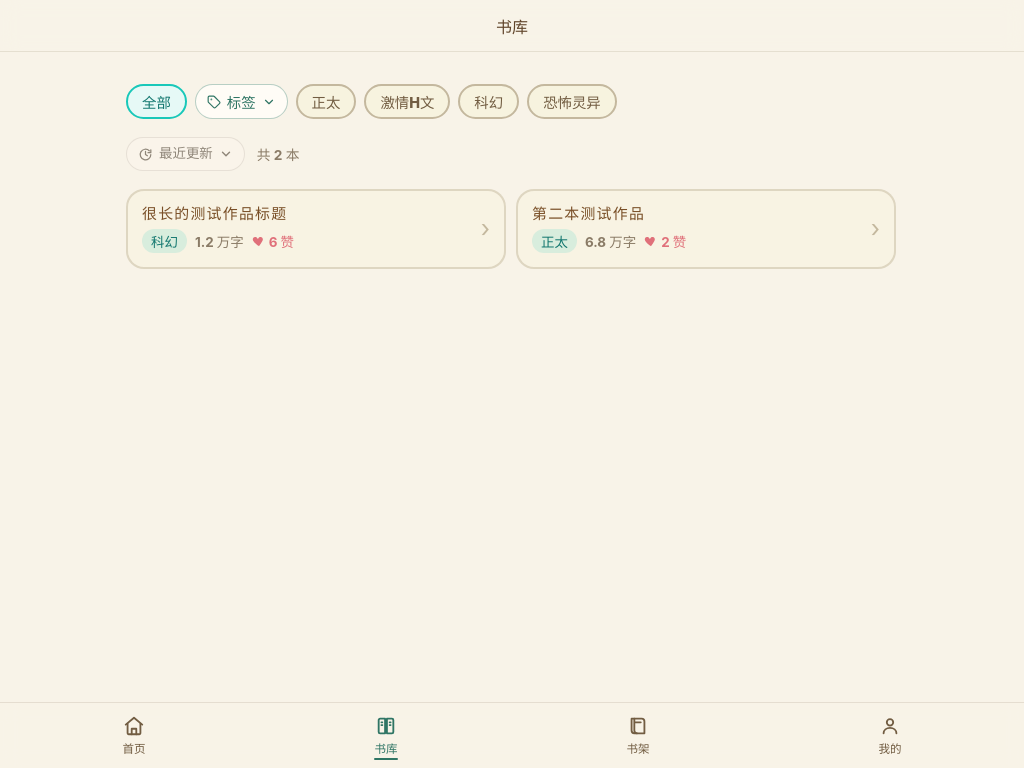
Test: BooksPage categories › shows a recent update sort control on the right side of the status row and opens other choices
Expected: the text "共 2 本" is shown, [257,147,300,163]
Expected: the icon with class "books-sort__icon" is shown, [138,146,153,162]
Click the button with aria-label "排序：最近更新" at [185, 154], box [126,137,245,171]
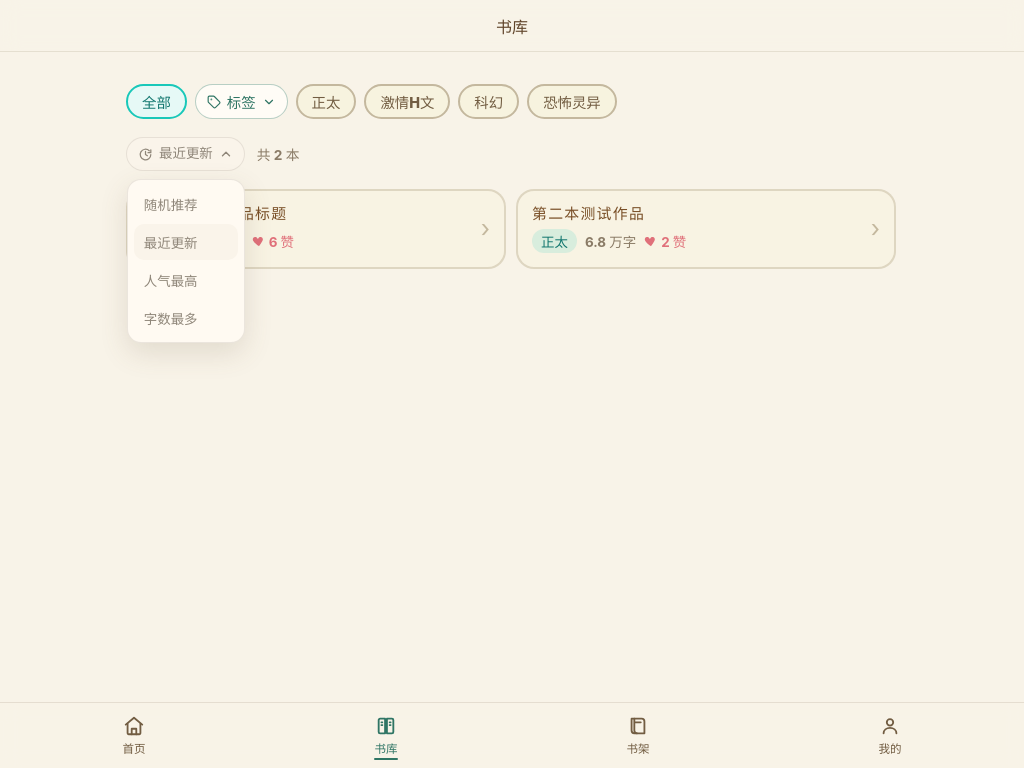
Result: the menu item "人气最高" is shown at [134,262,238,298]
Result: the menu item "字数最多" is shown at [134,300,238,336]
